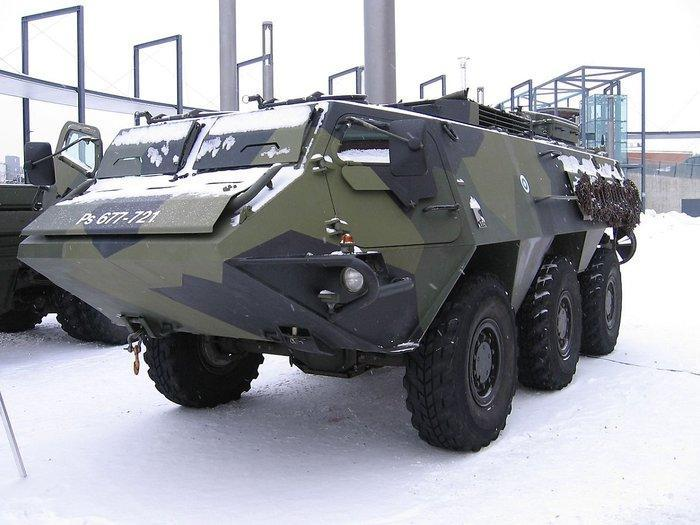MIL_IFV: (18, 91, 646, 456)
